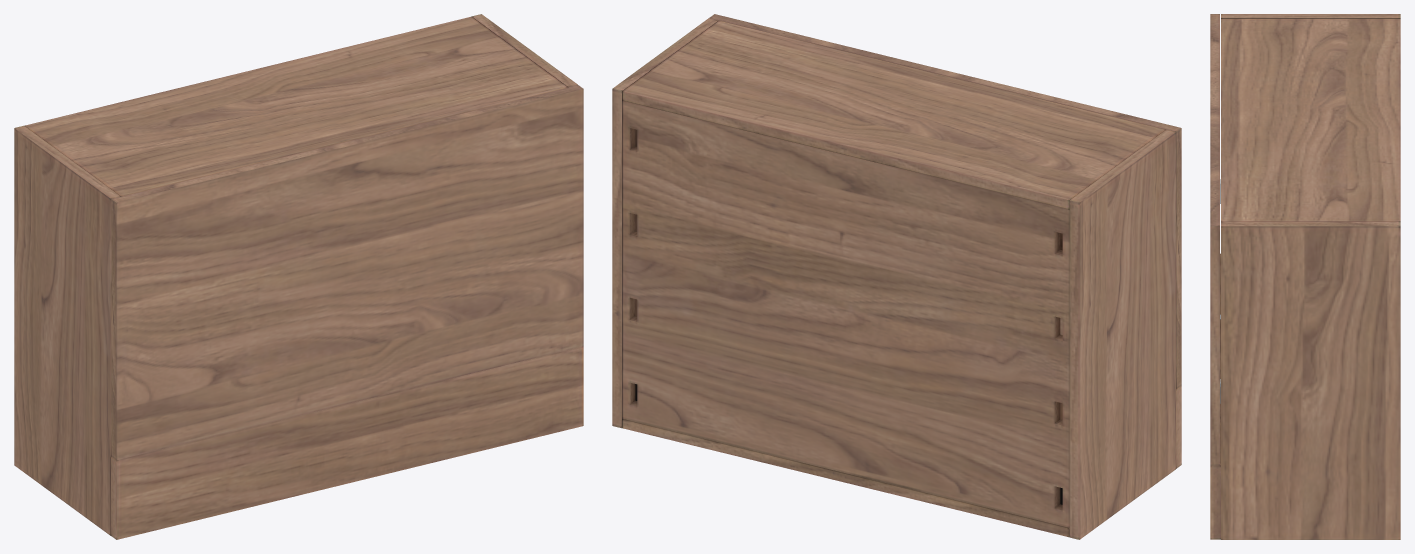
Rendered from unit_desk.glb.
3 renders of one model, left to right at view 1: azimuth 30°, elevation 25°; view 2: azimuth 150°, elevation 25°; view 3: azimuth 270°, elevation 25°, orthographic. The views are drawn at different scales.
Parts seen in each view (by area): view 1: Cube.006, Cube.002, Cube.003, Cube.009, Cube.001; view 2: Cube.004, Cube.002, Cube.009, Cube.001, Cube.006; view 3: Cube.001, Cube.002, Cube.006, Cube.003, Cube.009.
Boxes of the visible parts, left/top/right/bottom form: Cube.006: left=111, top=85, right=583, bottom=460; Cube.002: left=24, top=16, right=567, bottom=196; Cube.003: left=111, top=346, right=583, bottom=539; Cube.009: left=14, top=125, right=120, bottom=535; Cube.001: left=472, top=14, right=577, bottom=87; Cube.004: left=622, top=101, right=1069, bottom=527; Cube.002: left=622, top=20, right=1165, bottom=537; Cube.009: left=1069, top=129, right=1175, bottom=539; Cube.001: left=612, top=18, right=718, bottom=428; Cube.006: left=709, top=14, right=1181, bottom=388; Cube.001: left=1221, top=221, right=1400, bottom=539; Cube.002: left=1221, top=18, right=1400, bottom=221; Cube.006: left=1210, top=14, right=1219, bottom=465; Cube.003: left=1210, top=253, right=1220, bottom=539; Cube.009: left=1221, top=14, right=1400, bottom=18.
Size of the model in its own units: 1 by 0.6896 by 0.3791.
3 materials, 1 textured.
